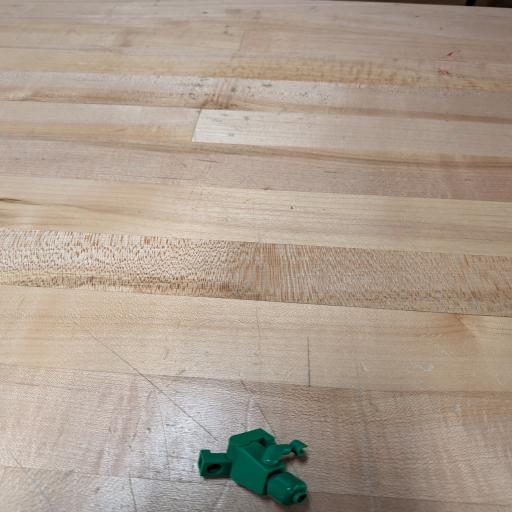Minifig: (198, 428, 307, 505)
